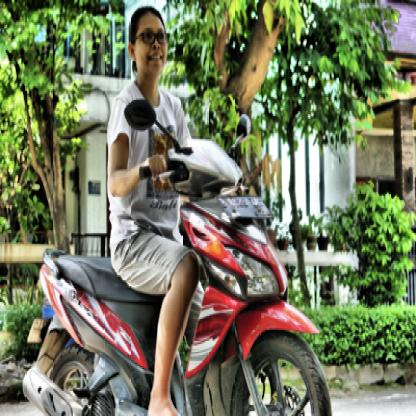not_wear: (131, 8, 166, 78)
